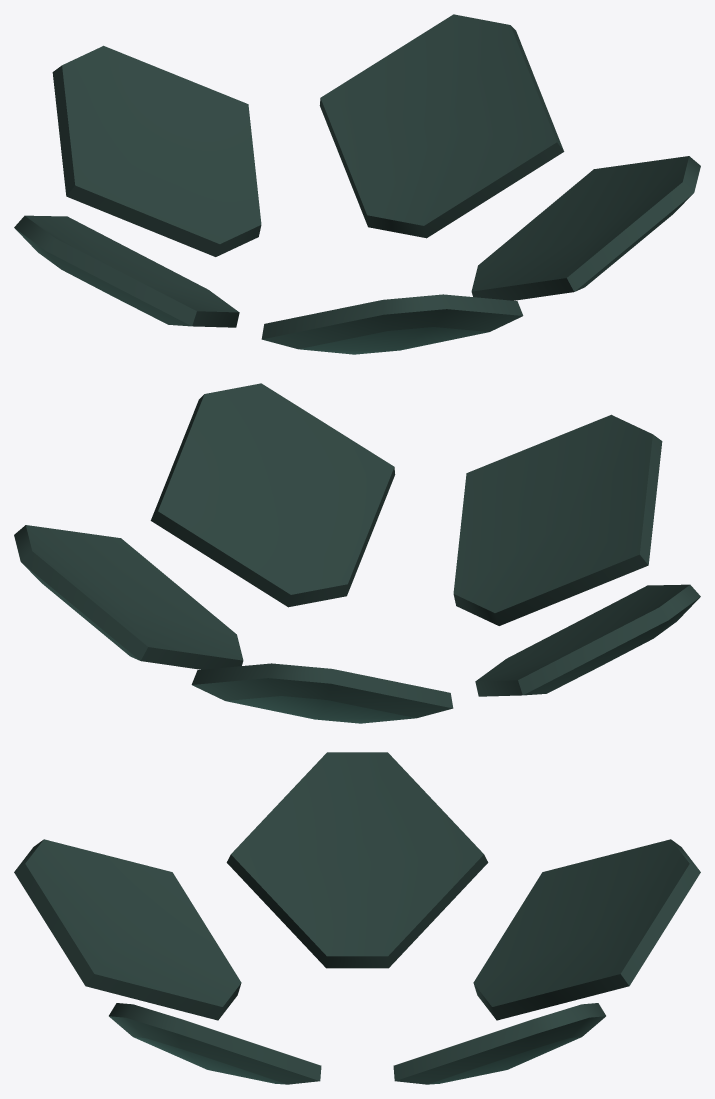
File: shell_cannon_c2.glb
3 views of the same model, one above another, from view 1: azimuth 30°, elevation 25°; view 2: azimuth 150°, elevation 25°; view 3: azimuth 270°, elevation 25° (orthographic). The views are drawn at different scales.
Parts seen in each view (by area): view 1: Carapace2; view 2: Carapace2; view 3: Carapace2.
Boxes of the visible parts, <box> form: Carapace2: <box>14,14,700,354</box>; Carapace2: <box>14,383,700,723</box>; Carapace2: <box>14,752,700,1084</box>.
Size of the model in its own units: 1.25 by 0.2742 by 1.31.
